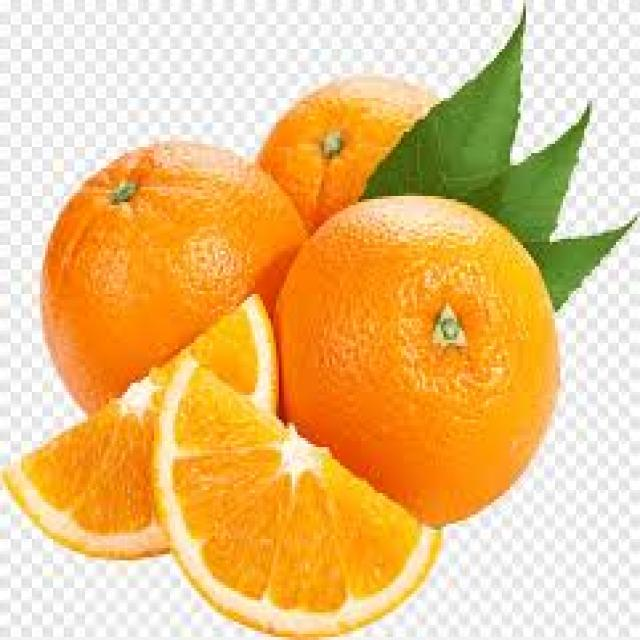orange: (283, 192, 575, 509)
